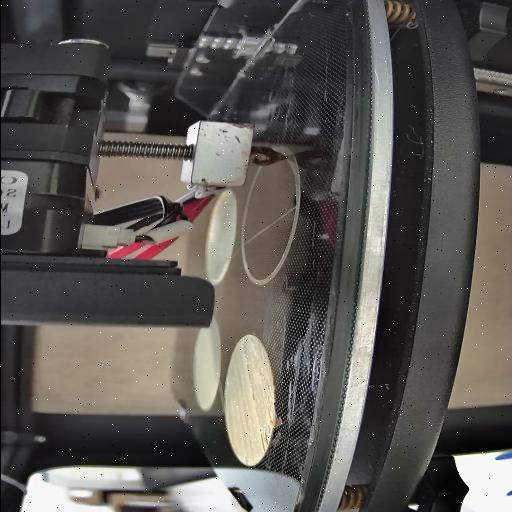under_extrusion: (242, 344, 257, 401), (254, 422, 276, 452), (264, 401, 276, 421), (239, 453, 251, 466)
